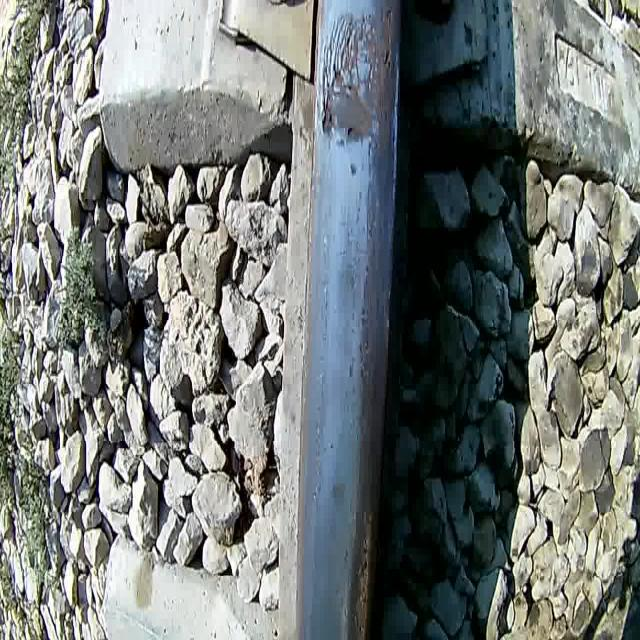Cracks: (321, 8, 372, 111)
Squats: (314, 0, 397, 155), (351, 490, 379, 640), (327, 473, 349, 513), (342, 158, 363, 186)
